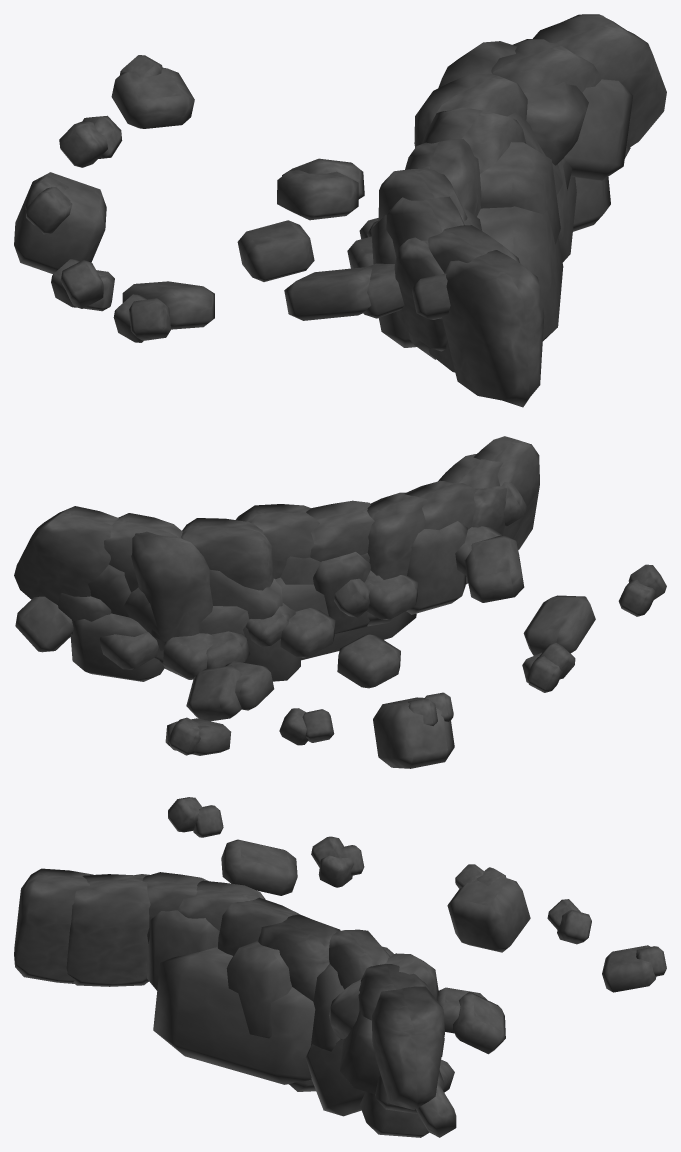
Rendered from Rock!.fbx.
3 renders of one model, top to bottom at view 1: azimuth 30°, elevation 25°; view 2: azimuth 150°, elevation 25°; view 3: azimuth 270°, elevation 25°, orthographic. The views are drawn at different scales.
Visible parts, largest first — view 1: CUBE2LOW18, CUBE2LOW11, pCube882, CUBE2LOW20, pCube19, pCube28, pCube24, pCube883, CUBE2LOW21, pCube887, CUBE2LOW12, CUBE2LOW22 (+23 smaller); view 2: CUBE2LOW11, CUBE2LOW20, CUBE2LOW12, pCube882, pCube27, CUBE2LOW15, pCube29, CUBE2LOW18, pCube887, CUBE2LOW22, CUBE2LOW14, pCube888 (+35 smaller); view 3: pCube19, CUBE2LOW17, CUBE2LOW11, CUBE2LOW18, pCube882, pCube24, CUBE2LOW22, pCube888, pCube27, pCube17, CUBE2LOW14, pCube886 (+17 smaller).
Boxes of the visible parts, box(x1,y1,x2,y2) form: CUBE2LOW18: box(442, 250, 544, 407); CUBE2LOW11: box(532, 14, 666, 146); pCube882: box(14, 172, 106, 273); CUBE2LOW20: box(438, 41, 588, 165); pCube19: box(477, 206, 563, 341); pCube28: box(564, 79, 632, 180); pCube24: box(480, 142, 560, 244); pCube883: box(111, 67, 194, 128); CUBE2LOW21: box(491, 39, 601, 92); pCube887: box(284, 266, 372, 320); CUBE2LOW12: box(414, 73, 527, 147); CUBE2LOW22: box(422, 107, 526, 173); CUBE2LOW11: box(14, 506, 118, 604); CUBE2LOW20: box(131, 531, 212, 641); CUBE2LOW12: box(181, 518, 273, 590); pCube882: box(373, 697, 454, 768); pCube27: box(406, 521, 467, 614); CUBE2LOW15: box(367, 492, 428, 579); pCube29: box(70, 613, 164, 681); CUBE2LOW18: box(473, 436, 539, 549); pCube887: box(464, 535, 524, 602); CUBE2LOW22: box(236, 504, 319, 579); CUBE2LOW14: box(306, 500, 374, 561); pCube888: box(523, 595, 595, 655); pCube19: box(153, 947, 315, 1084); CUBE2LOW17: box(66, 874, 150, 986); CUBE2LOW11: box(372, 986, 444, 1109); CUBE2LOW18: box(14, 868, 93, 983); pCube882: box(447, 877, 530, 952); pCube24: box(226, 941, 291, 1038); CUBE2LOW22: box(258, 914, 340, 1001); pCube888: box(221, 839, 297, 895); pCube27: box(147, 910, 219, 990); pCube17: box(305, 1039, 365, 1116); CUBE2LOW14: box(218, 897, 298, 955); pCube886: box(453, 991, 505, 1054).
Size of the model in its own units: 4532 by 1294 by 4852.
